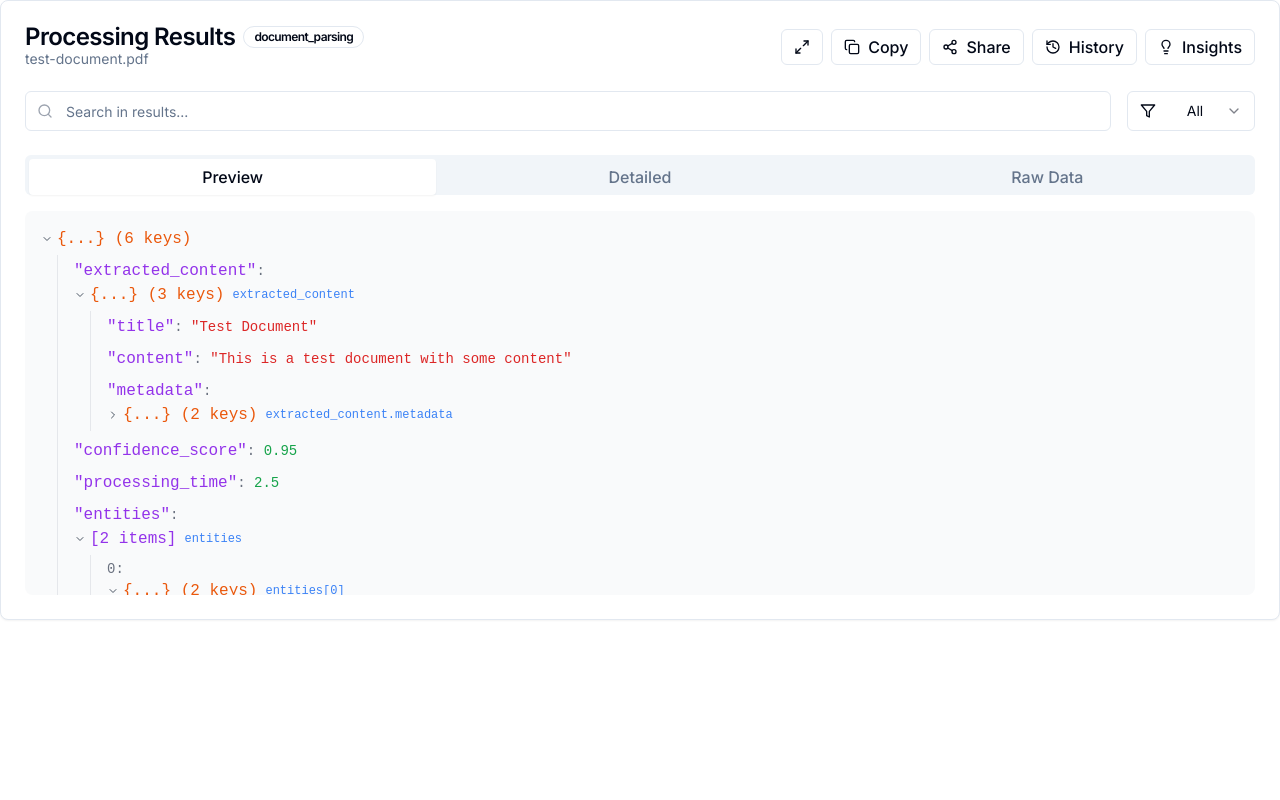
EnhancedResultsViewer › displays task metadata in detailed view
Note: Switch to detailed view
Click the tab "Detailed" at (640, 177), box [436,159,844,195]
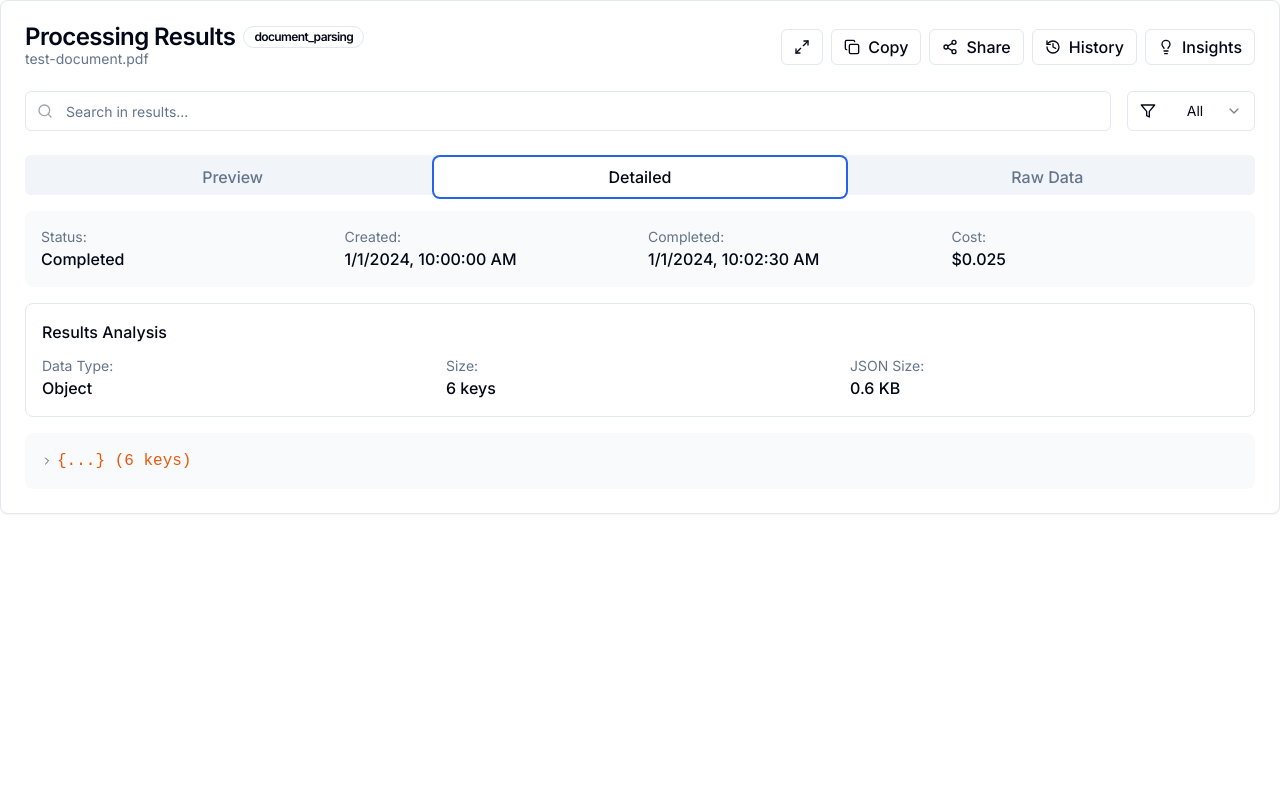
Check: the text "Status:" is shown, box [41,228,87,245]
Check: the text "completed" is shown, box [41,249,124,269]
Check: the text "Cost:" is shown, box [952,228,986,245]
